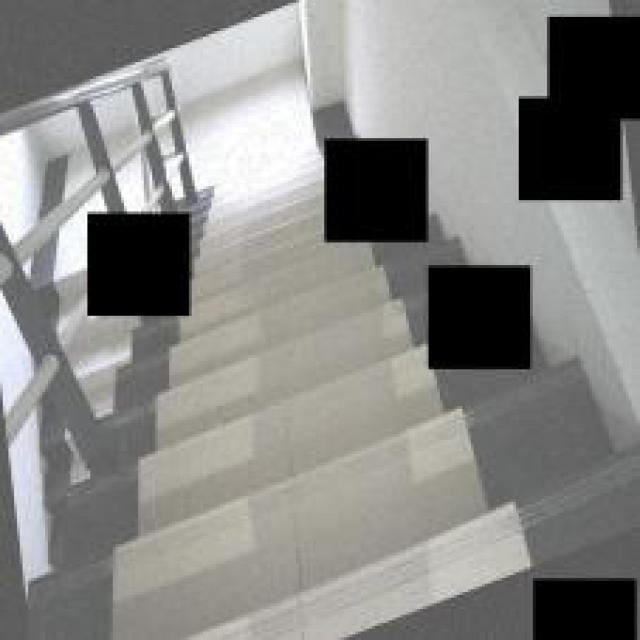downstair: (200, 271, 426, 637)
